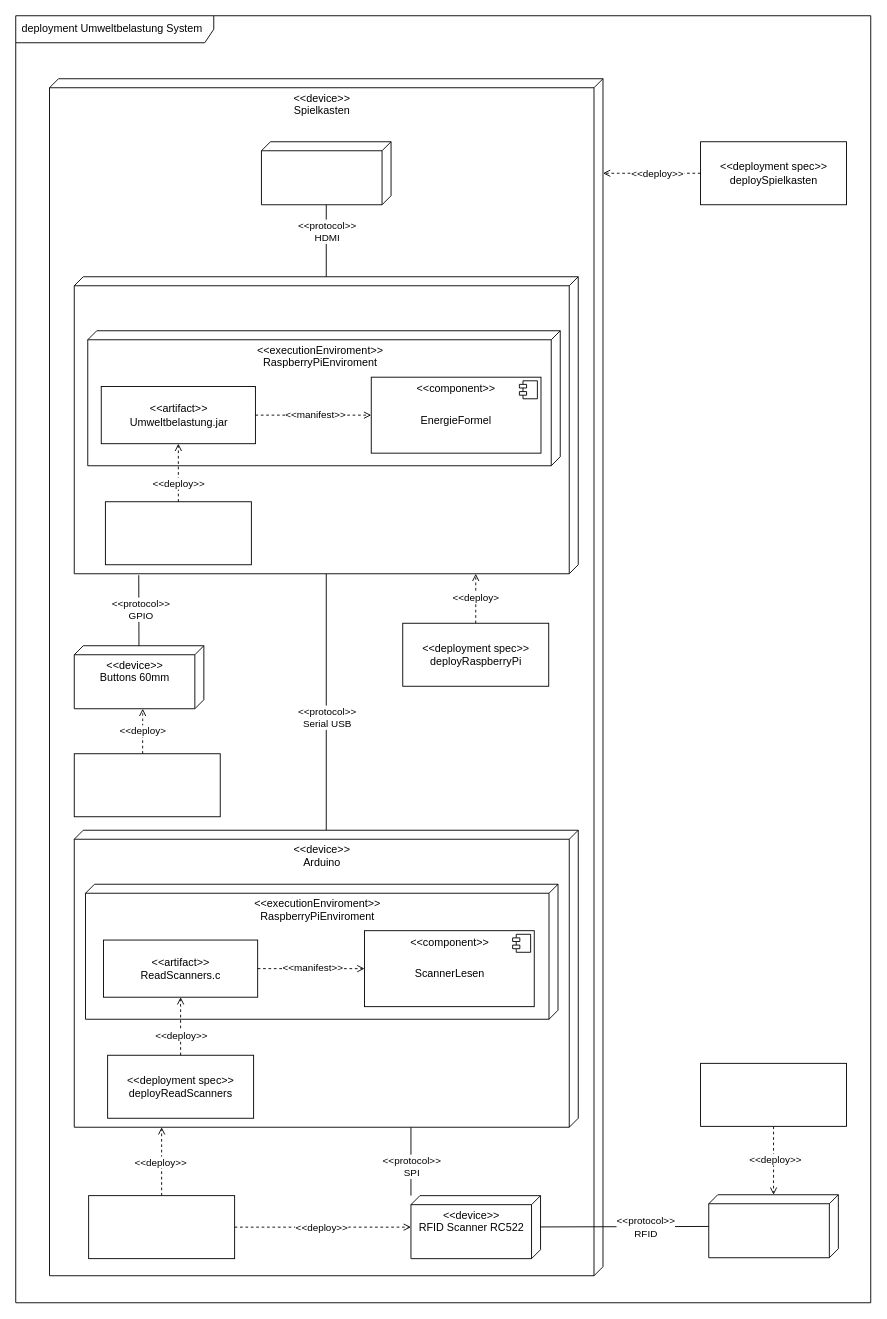
This 887x1319 diagram has some shape labels left out. Here are the shapes that lost their labels. From the top down, the box of each, then its label:
(261, 141, 391, 205): <<device>> Display
(73, 276, 578, 574): <<device>> RaspberryPi
(104, 501, 251, 565): <<deployment spec>> deployUmweltbelastung
(73, 753, 220, 817): <<deployment spec>> deployButtons
(700, 1062, 847, 1126): <<deployment spec>> deployFiguren
(88, 1195, 235, 1259): <<deployment spec>> deployRFIDScanners
(708, 1194, 838, 1258): <<device>> RFID Figuren
